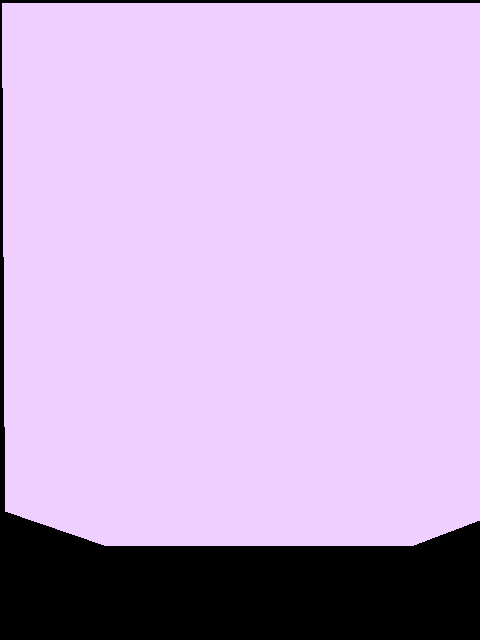Train: (2, 3, 480, 545)
